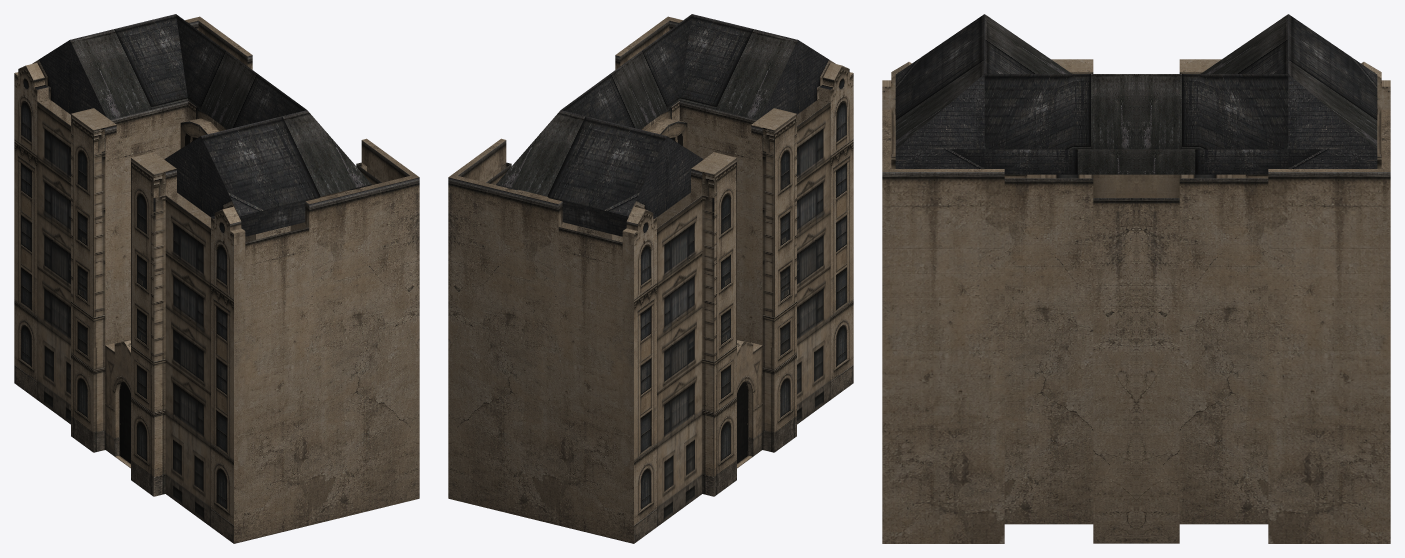
3 views of the same model, side by side, from view 1: azimuth 30°, elevation 25°; view 2: azimuth 150°, elevation 25°; view 3: azimuth 270°, elevation 25° (orthographic). The views are drawn at different scales.
Visible parts, largest first — view 1: B009; view 2: B009; view 3: B009.
Part boxes in pixels (box(x1,y1,x2,y2)): B009: box(14, 14, 419, 543); B009: box(448, 14, 853, 543); B009: box(882, 14, 1390, 543).
Bounding box in the file's own units: 3.83 × 6.91 × 7.38.
Materials: 1 (1 with a texture image).
